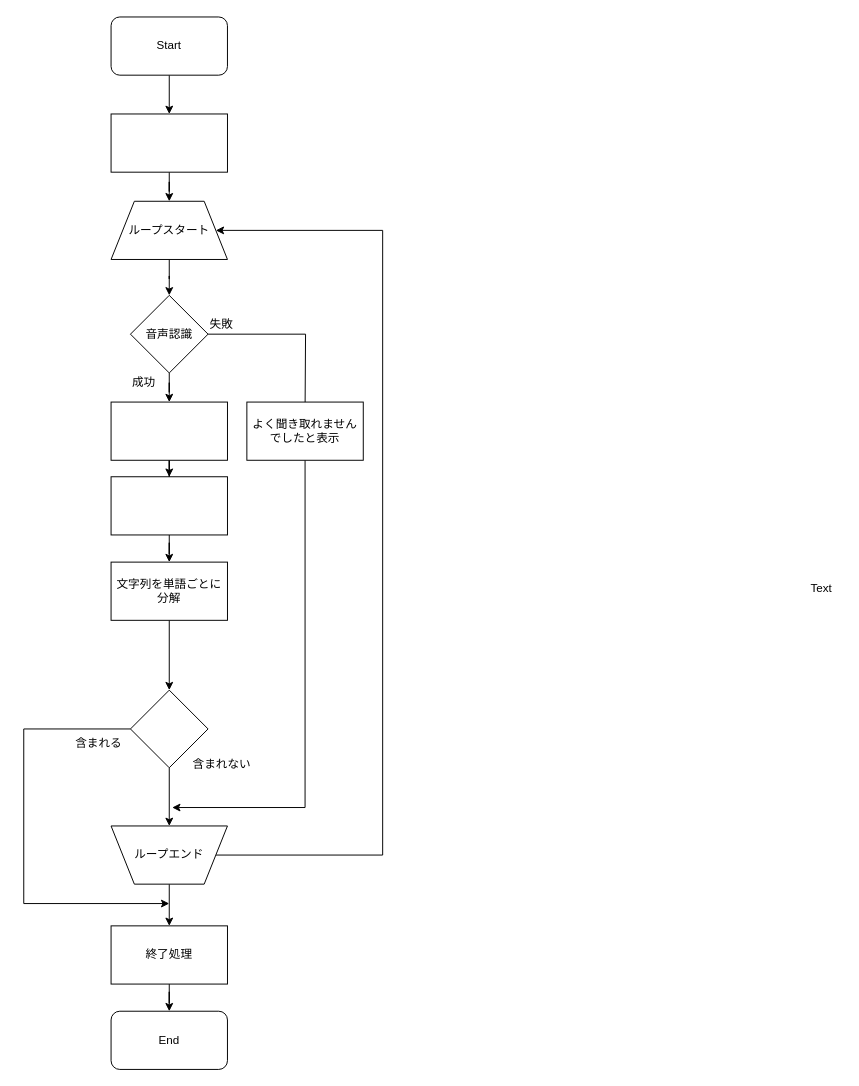
The diagram is 859 pixels wide and 1086 high, and some of its shapes have lost their labels. Here are the shapes that lost their labels. From the top down, the centre of each, then its label:
[168,142]: Library import 初期化処理
[168,430]: ノイズ削除 文字列データに変換
[168,505]: 文字列の形態素分析
[168,728]: 文字列に ”ストップ” が含まれている
